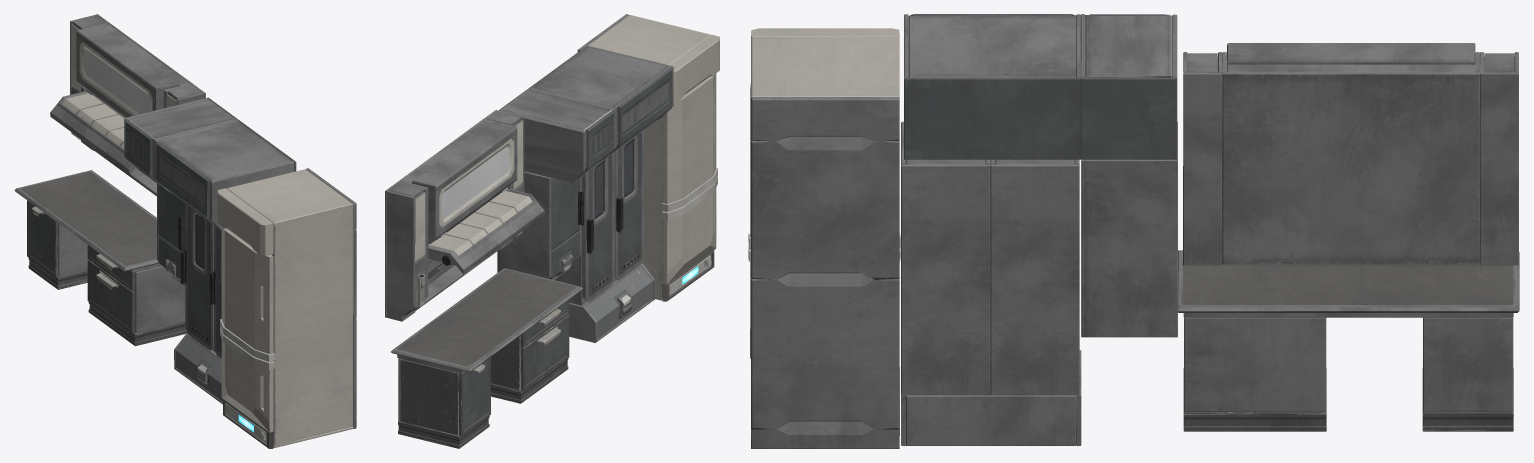
The picture shows the model from 3 angles, left to right: view 1: azimuth 30°, elevation 25°; view 2: azimuth 150°, elevation 25°; view 3: azimuth 270°, elevation 25°; orthographic projection. The views are drawn at different scales.
Parts seen in each view (by area): view 1: SM_Objects_1; view 2: SM_Objects_1; view 3: SM_Objects_1.
Part boxes in pixels (x1,y1,x2,y2): SM_Objects_1: [14, 14, 356, 448]; SM_Objects_1: [385, 14, 719, 448]; SM_Objects_1: [748, 14, 1519, 448].
Size of the model in its own units: 118 by 519 by 276.
Materials: 10 (10 with a texture image).
